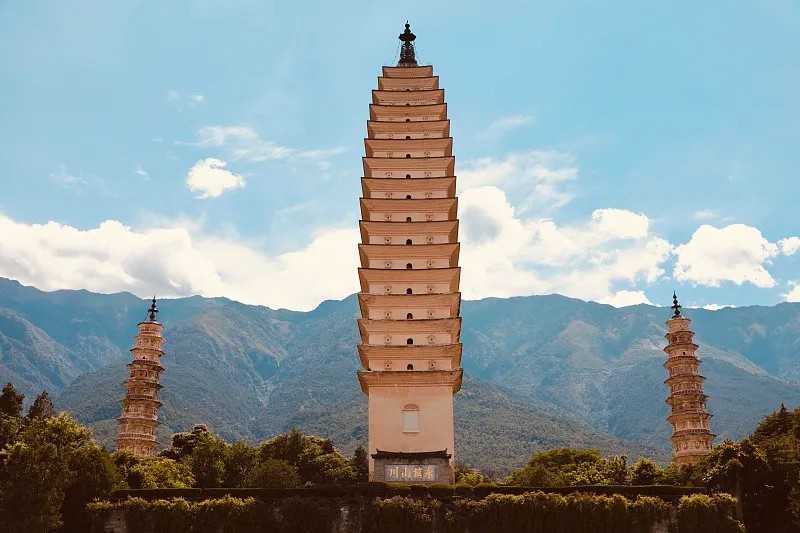ThreePagoda: (358, 20, 463, 484)
